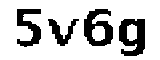5: (9, 6, 42, 50)
6: (81, 7, 115, 51)
g: (114, 15, 151, 58)
v: (44, 15, 80, 49)
